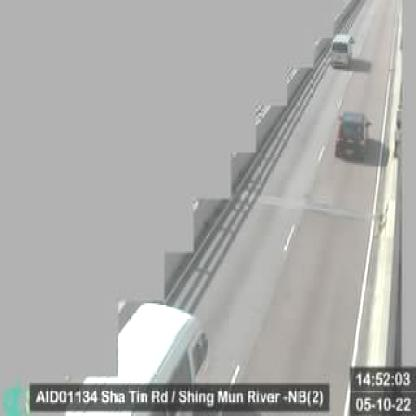Car: (336, 112, 370, 160), (332, 31, 354, 68)
